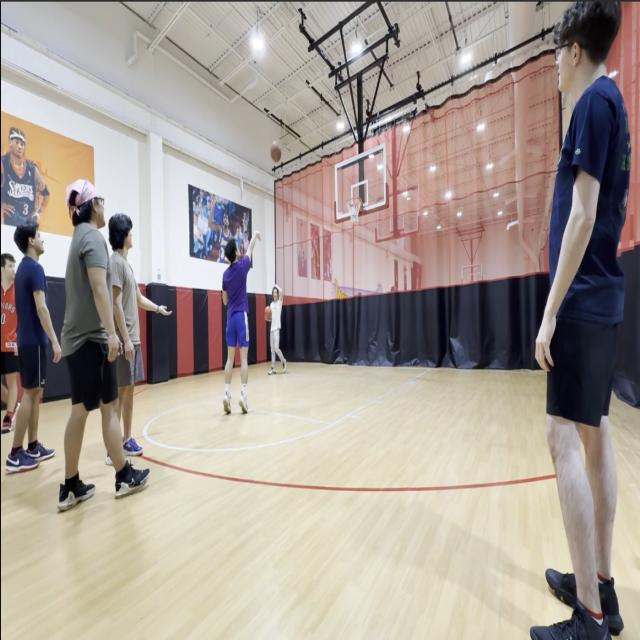Basketball: (270, 142, 281, 162), (265, 305, 272, 320)
Basketball Rim: (347, 197, 362, 223)
